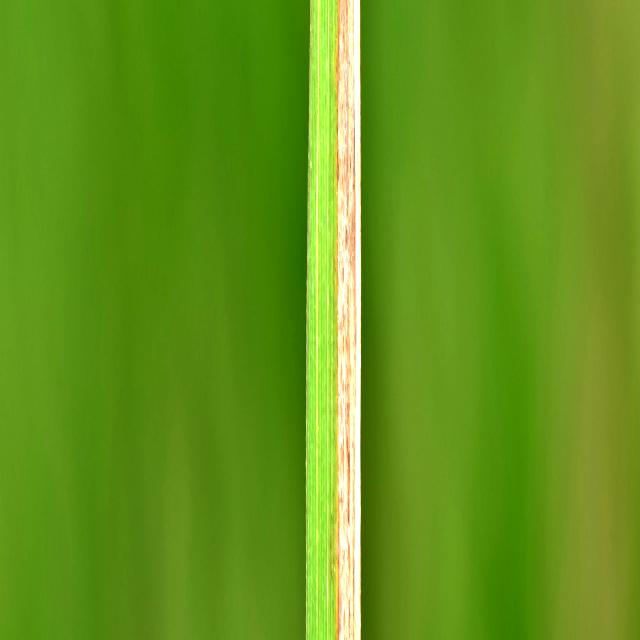BLB: (338, 0, 361, 640)
